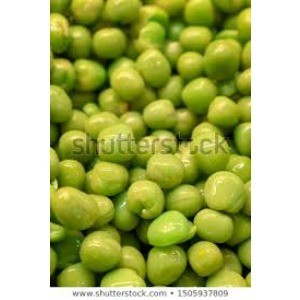green pea_brain food: (62, 57, 233, 237)
